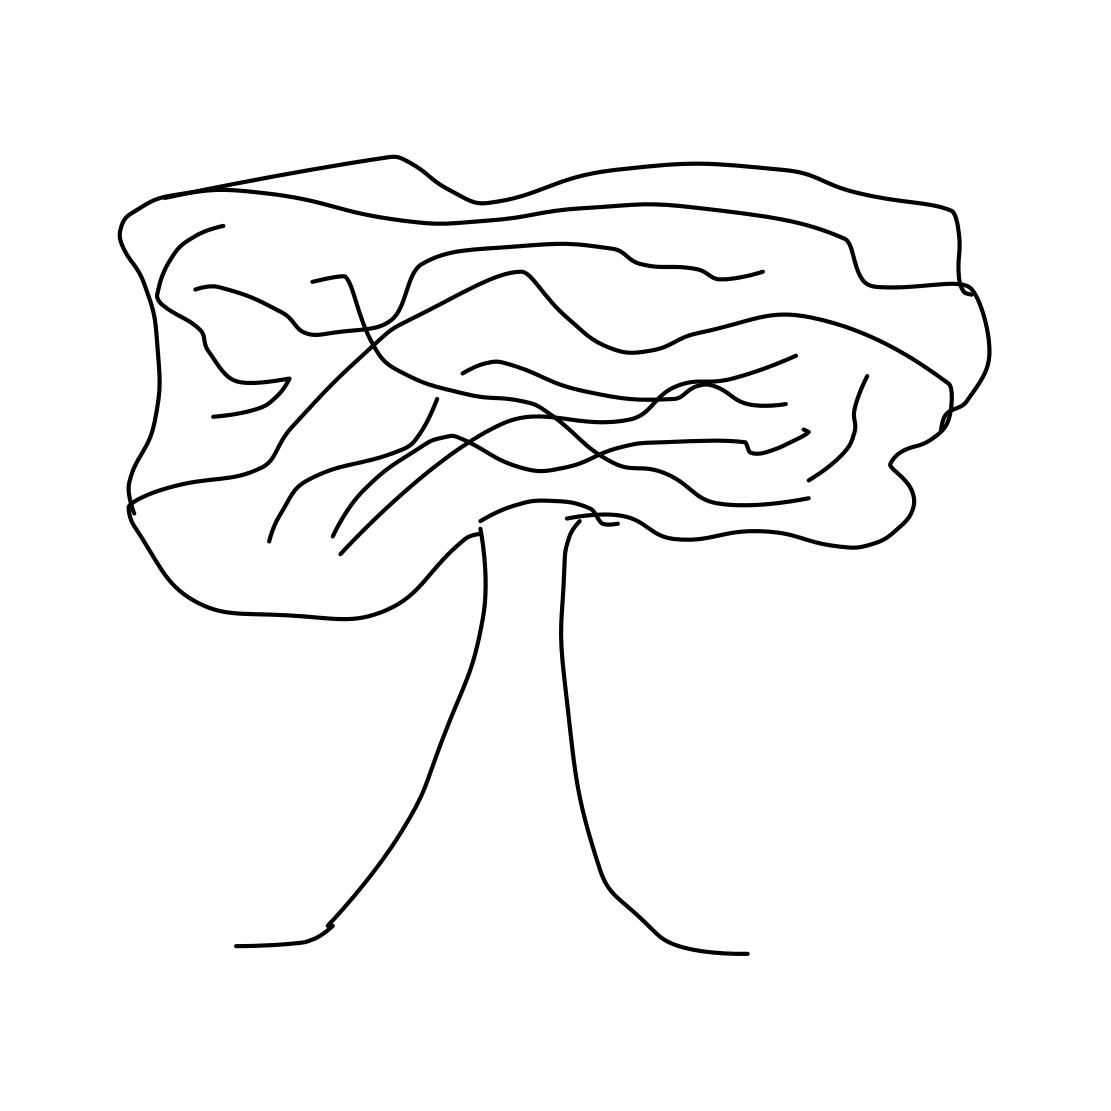Tree: (87, 106, 1006, 968)
